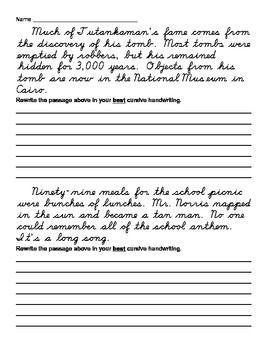text: (30, 184, 244, 200), (14, 198, 252, 212), (16, 38, 253, 52), (16, 60, 237, 75), (17, 220, 232, 235), (30, 26, 252, 40), (16, 72, 246, 84), (16, 208, 246, 220), (15, 49, 218, 62), (15, 244, 181, 254), (14, 96, 182, 104), (15, 233, 110, 246), (15, 84, 48, 96), (15, 16, 33, 23)
